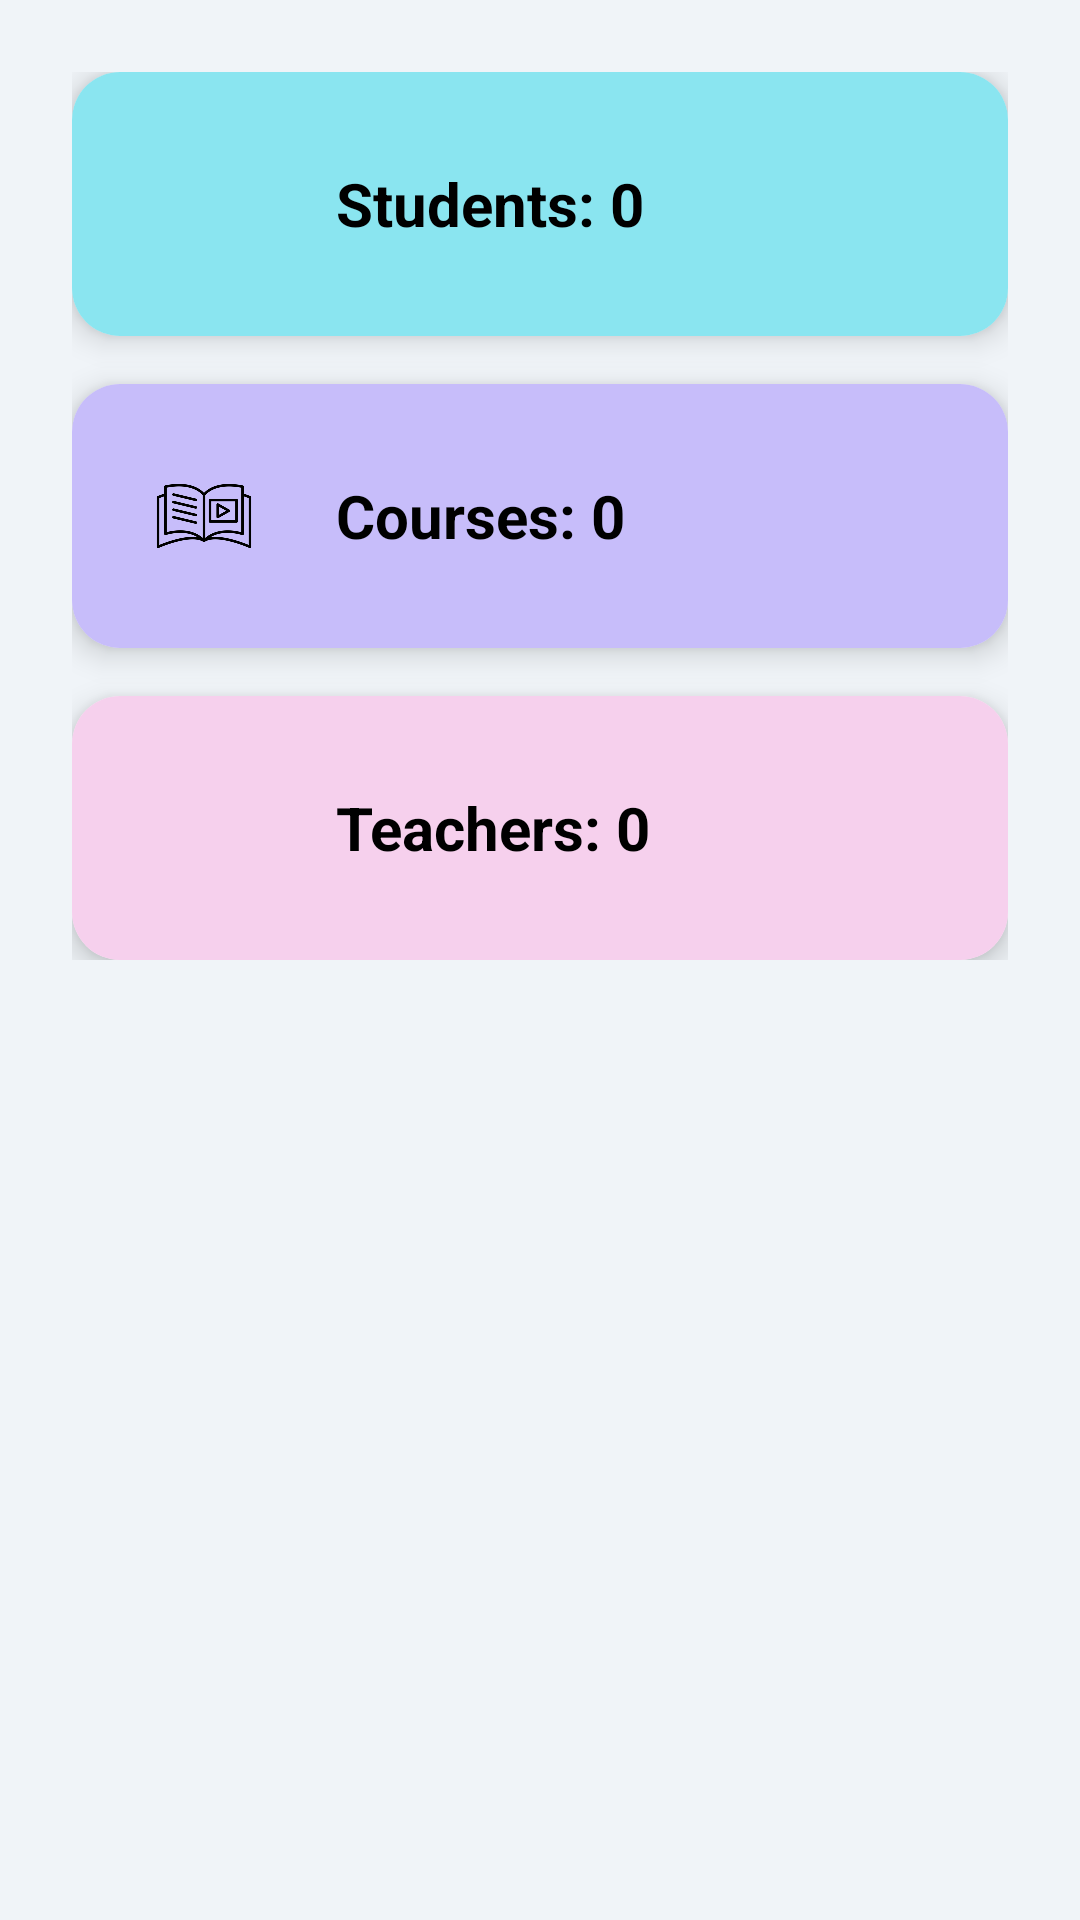

Screen size 1080px x 1920px. Icon name, then its center in pixels as point (x, y):
Course Icon: point (204, 516)
